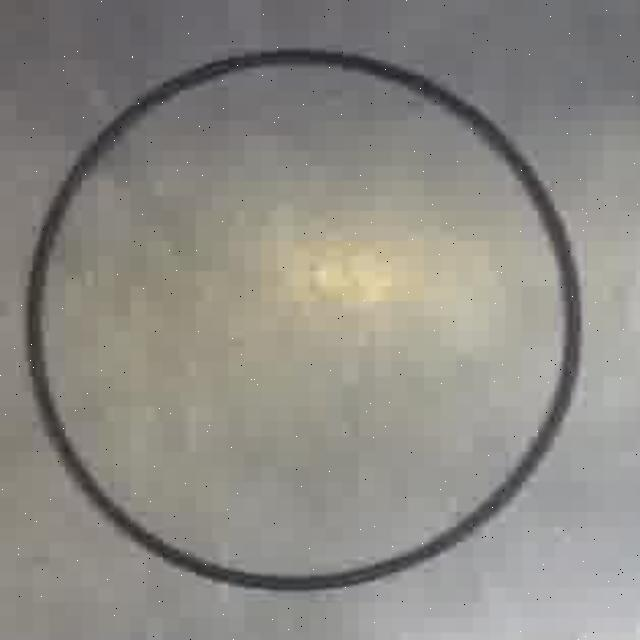Circle: (24, 45, 587, 591)
